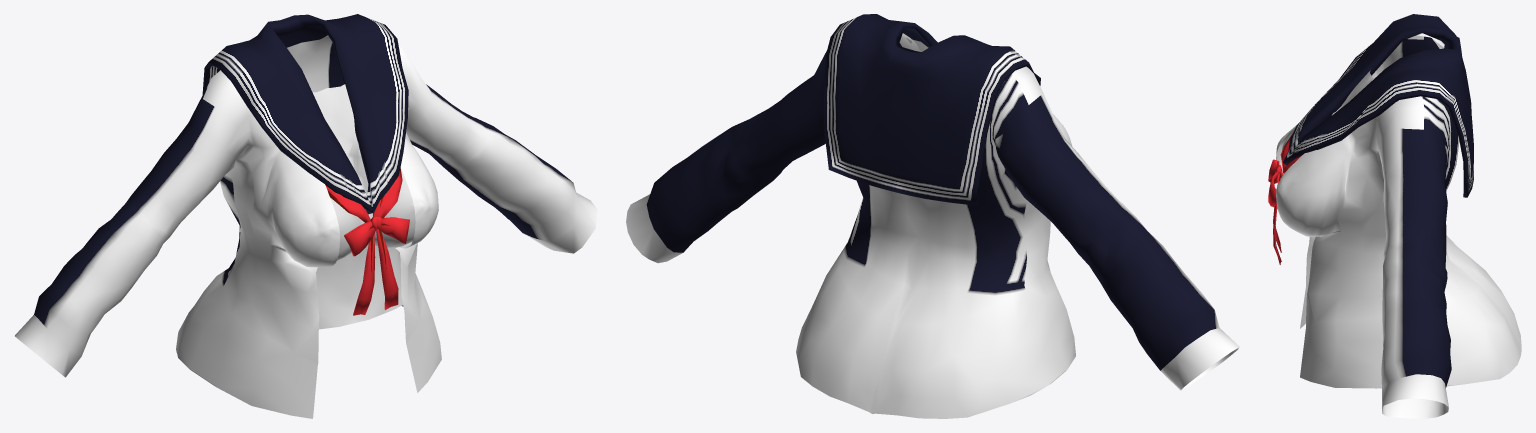
Rendered from top2.fbx.
The picture shows the model from 3 angles, left to right: view 1: azimuth 30°, elevation 25°; view 2: azimuth 150°, elevation 25°; view 3: azimuth 270°, elevation 25°; orthographic projection. The views are drawn at different scales.
Visible parts, largest first — view 1: カスタム少女_mesh; view 2: カスタム少女_mesh; view 3: カスタム少女_mesh.
Part boxes in pixels (x1,y1,x2,y2): カスタム少女_mesh: (15,14,597,418); カスタム少女_mesh: (626,14,1239,418); カスタム少女_mesh: (1268,14,1521,418).
Size of the model in its own units: 93.87 by 51.97 by 38.01.
Materials: 4 (3 with a texture image).
